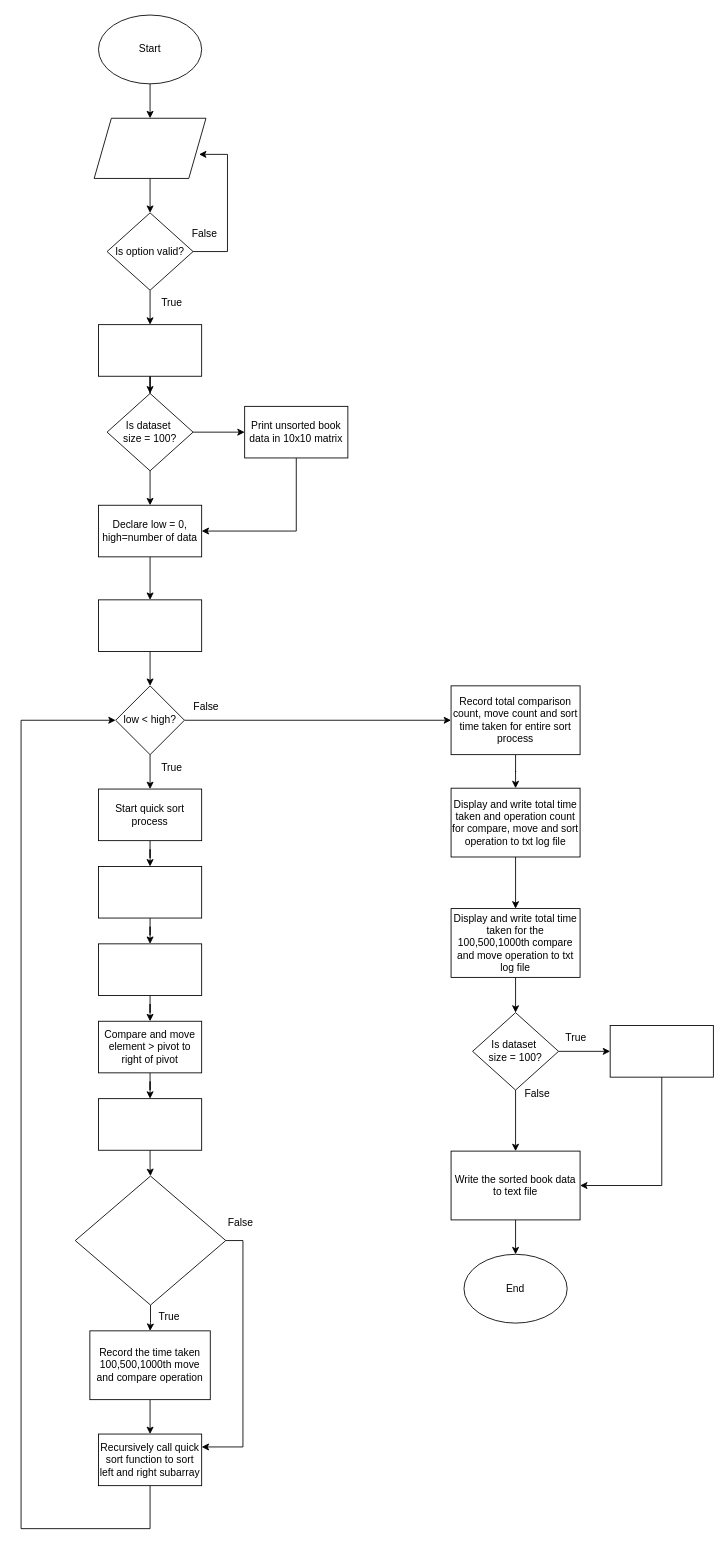
Image size: 728x1551. Some labels were removed from this diagram. The shapes that lost their labels are listed below. From the top down, each one's centre as x and y in pixels, then its label:
At [149,147]: "Input which file to import data".
At [150,350]: "Read book data from excel into ADT variable".
At [150,625]: "Initialize variable to count compare & move/swap operation".
At [150,892]: "Set pivot = median of start , middle and last element of current array".
At [150,969]: "Compare and move element < pivot to left of pivot".
At [661,1051]: "Print sorted book data in 10x10 matrix".
At [150,1124]: "Do increment on compare and move counter based on operation count".
At [150,1240]: "Current compare/move operation is 100,500,1000?".
